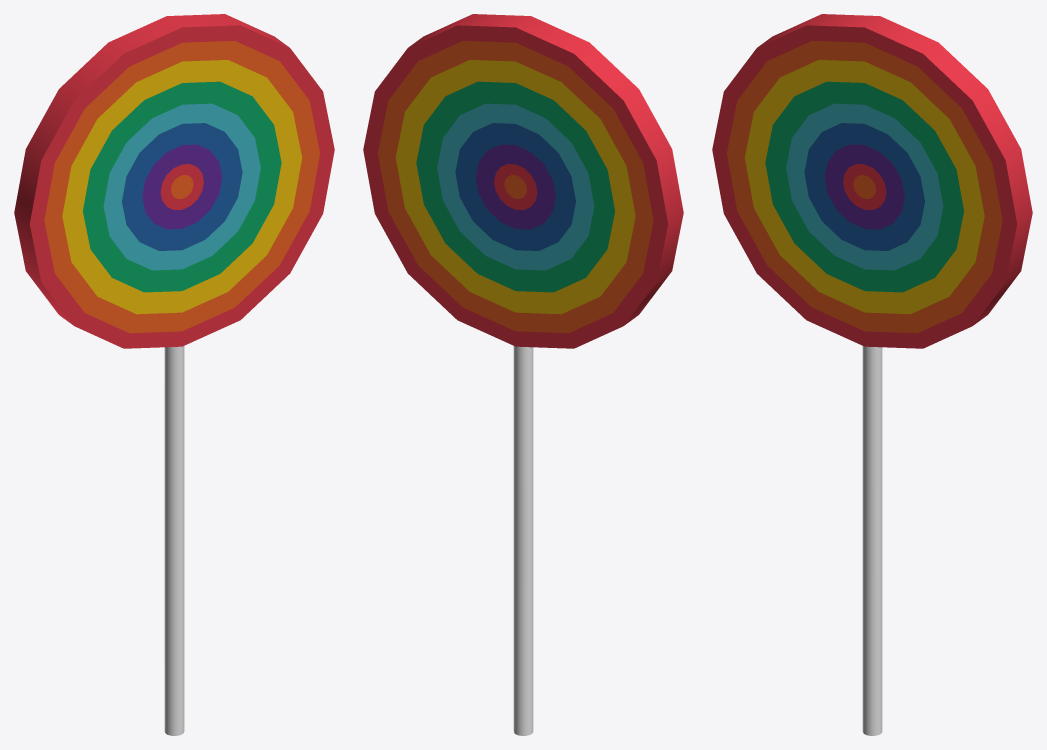
File: LollipopAmmunition.fbx
3 renders of one model, left to right at view 1: azimuth 30°, elevation 25°; view 2: azimuth 150°, elevation 25°; view 3: azimuth 330°, elevation 25°, orthographic.
Parts seen in each view (by area): view 1: Lollipop, Holder; view 2: Lollipop, Holder; view 3: Lollipop, Holder.
Boxes of the visible parts, box(x1,y1,x2,y2) form: Lollipop: box(14, 14, 334, 348); Holder: box(164, 346, 184, 735); Lollipop: box(363, 14, 683, 348); Holder: box(513, 346, 533, 735); Lollipop: box(712, 14, 1032, 348); Holder: box(862, 346, 882, 735).
Bounding box in the file's own units: 36.08 × 80.25 × 3.18.
